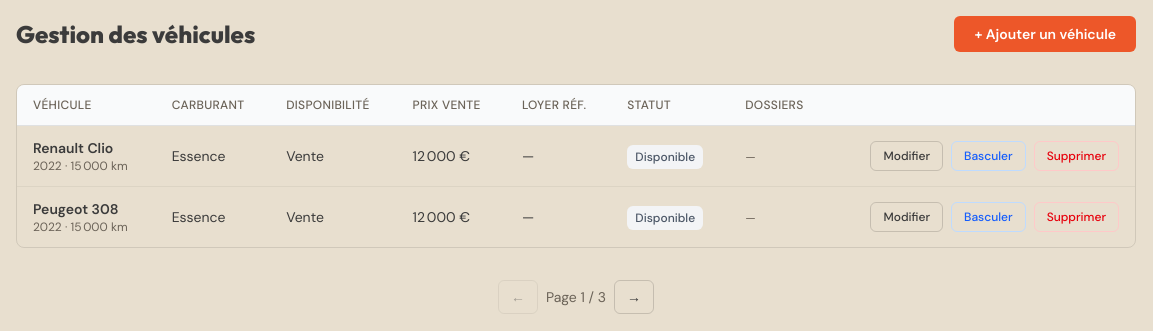
Scenario: VehicleManagement › avance à la page suivante via le bouton →
The width and height of the screenshot is (1153, 331).
Click the button "→". click: (634, 297)
box: 614,280 -> 654,314
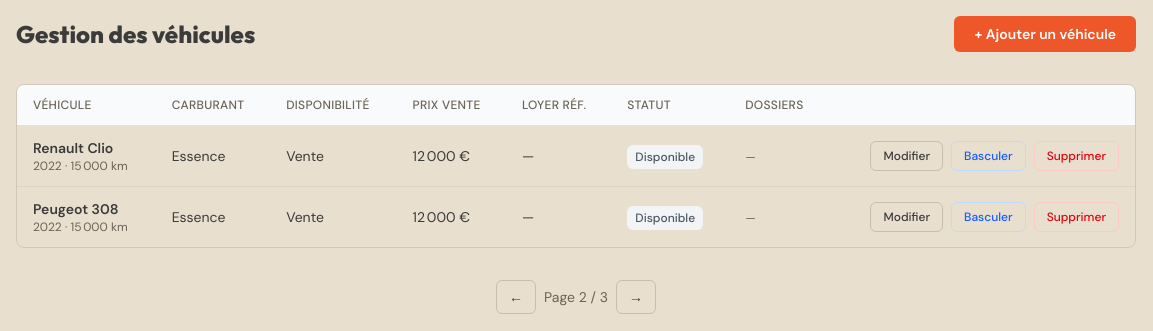
Result: the text "Page 2 / 3" is shown at 544,287 -> 608,307
